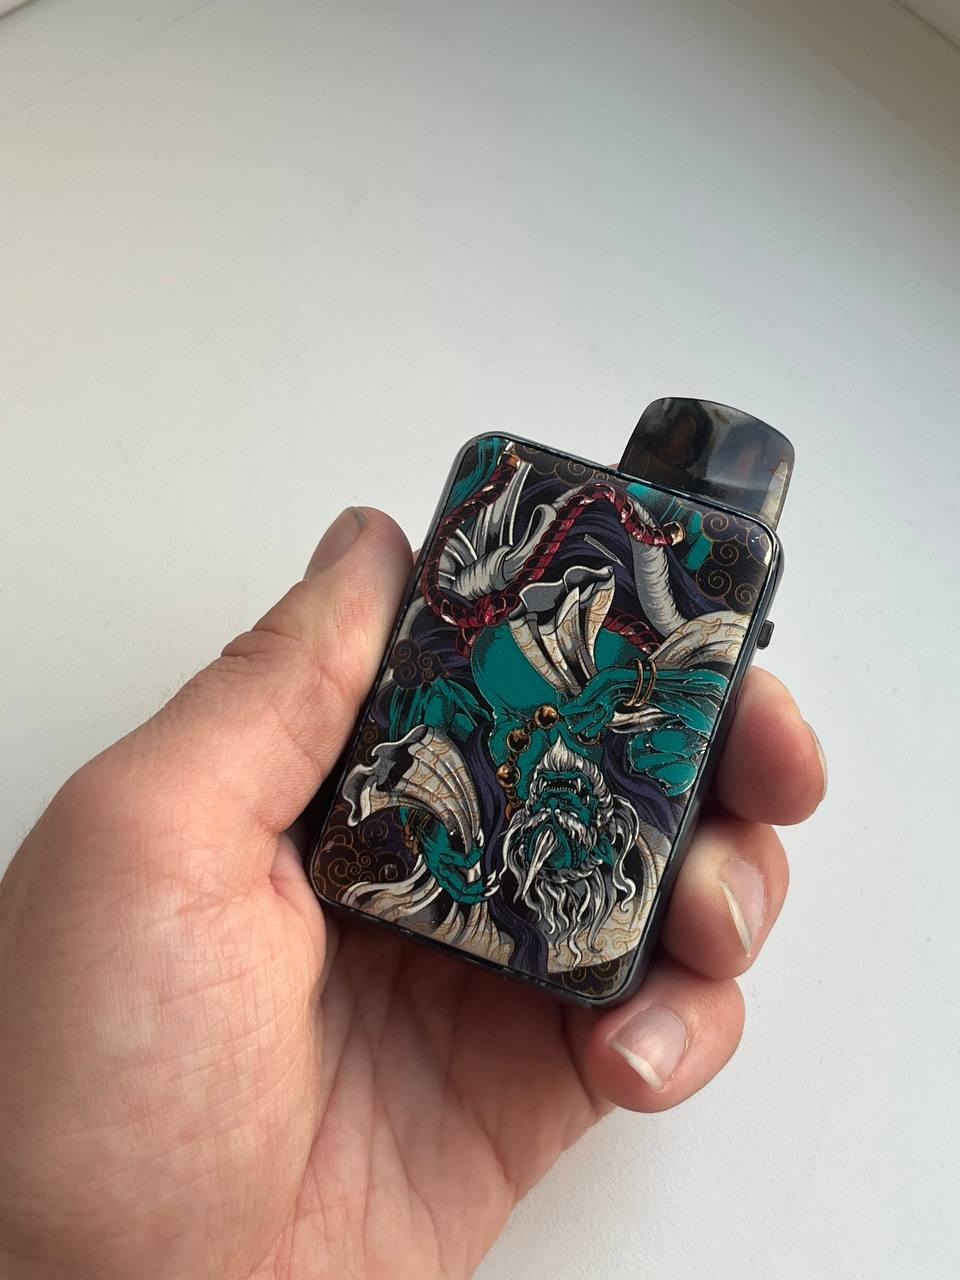Vape: (304, 398, 793, 1006)
